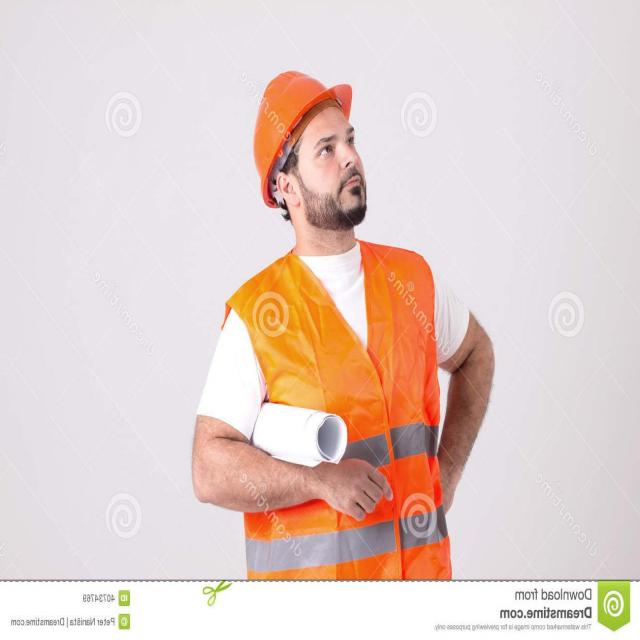Reflective-Jacket: (232, 249, 448, 576)
Safety-Helmet: (248, 66, 353, 204)
